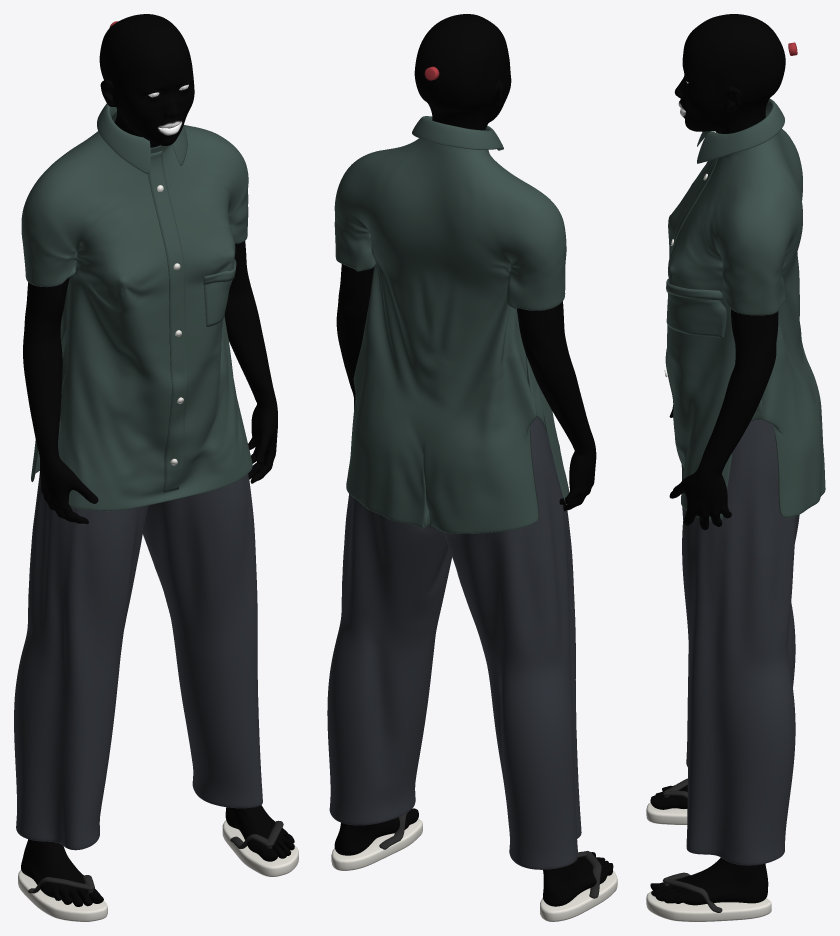
The model's file is rina.glb.
3 views of the same model, side by side, from view 1: azimuth 30°, elevation 25°; view 2: azimuth 150°, elevation 25°; view 3: azimuth 270°, elevation 25° (orthographic). The views are drawn at different scales.
Parts seen in each view (by area): view 1: Kemeja, Celana, Badan, Plaket, Kerah, SandalAlas.001, SandalAlas, Saku; view 2: Kemeja, Celana, Badan, Kerah, SandalAlas, SandalAlas.001; view 3: Celana, Kemeja, Badan, Kerah, Saku, SandalAlas, SandalAlas.001, Plaket, SakuLipat, SandalTali.
Part boxes in pixels (bbox=[...]): Kemeja: bbox=[21, 110, 252, 511]; Celana: bbox=[14, 472, 262, 850]; Badan: bbox=[21, 14, 294, 906]; Plaket: bbox=[148, 150, 188, 493]; Kerah: bbox=[97, 103, 187, 174]; SandalAlas.001: bbox=[18, 870, 107, 921]; SandalAlas: bbox=[222, 820, 298, 876]; Saku: bbox=[204, 262, 234, 326]; Kemeja: bbox=[334, 138, 569, 533]; Celana: bbox=[327, 417, 581, 869]; Badan: bbox=[334, 14, 613, 906]; Kerah: bbox=[412, 116, 503, 150]; SandalAlas: bbox=[331, 818, 422, 870]; SandalAlas.001: bbox=[540, 870, 617, 921]; Celana: bbox=[682, 420, 799, 865]; Kemeja: bbox=[667, 111, 825, 521]; Badan: bbox=[650, 14, 785, 905]; Kerah: bbox=[697, 99, 784, 163]; Saku: bbox=[666, 281, 726, 339]; SandalAlas: bbox=[646, 892, 771, 921]; SandalAlas.001: bbox=[646, 802, 687, 824]; Plaket: bbox=[665, 158, 717, 468]; SakuLipat: bbox=[666, 271, 722, 300]; SandalTali: bbox=[663, 872, 722, 912].
Bounding box in the file's own units: 0.4694 × 1.51 × 0.291.
Materials: 9 (2 with a texture image).
